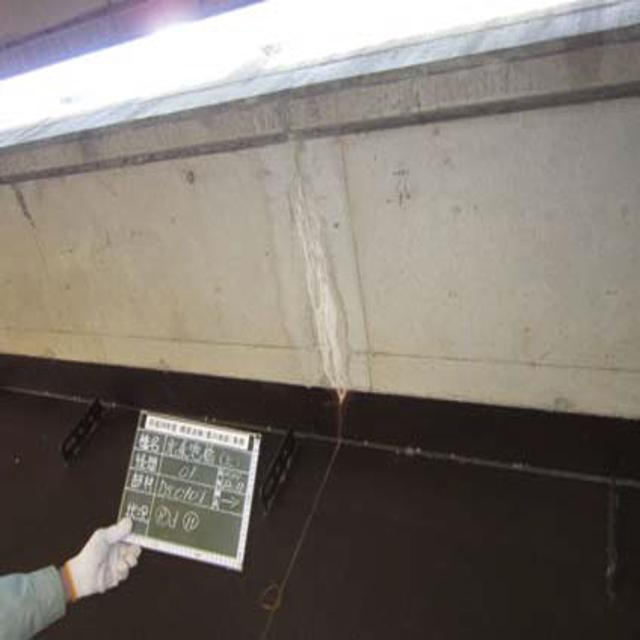freelime: (284, 187, 350, 403)
